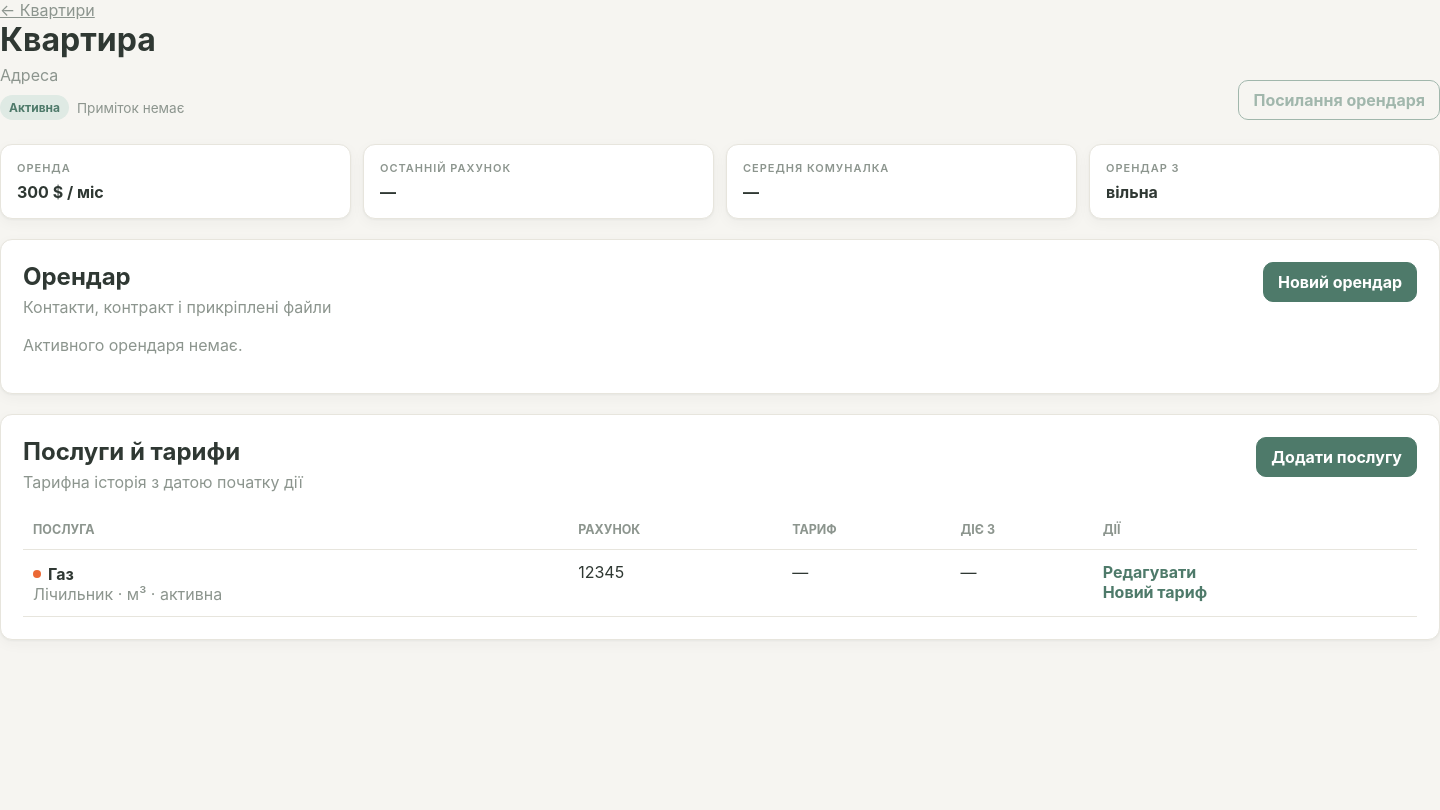
Test case: ApartmentDetail › opens the service editing form with existing values
This screenshot has width=1440, height=810.
Click the button "Редагувати" at coordinates (1149, 572), box [1103, 562, 1196, 582]
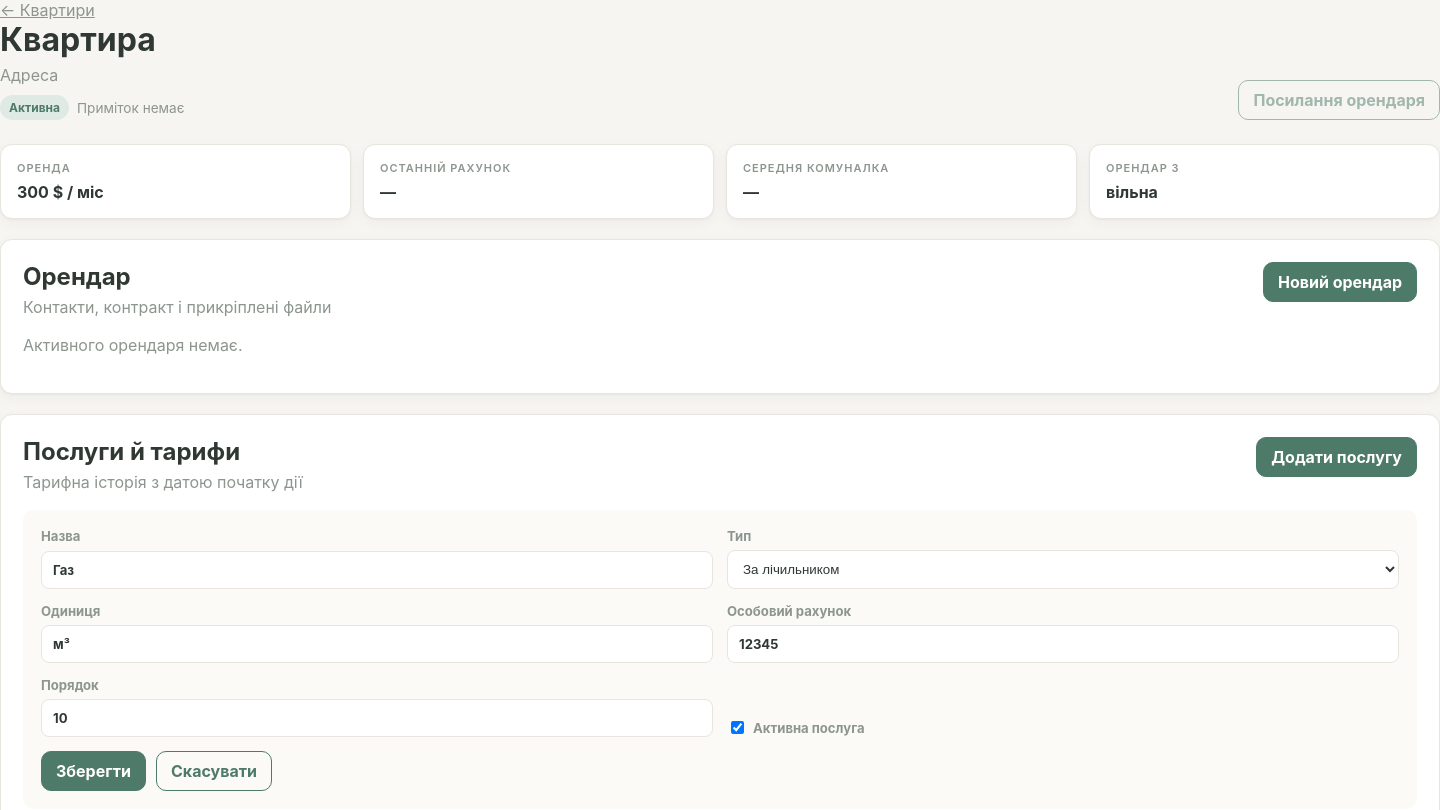
Expected: the field labelled "Назва" holds "Газ", [41, 550, 713, 589]
Expected: the button "Зберегти" is shown, [41, 751, 146, 791]
